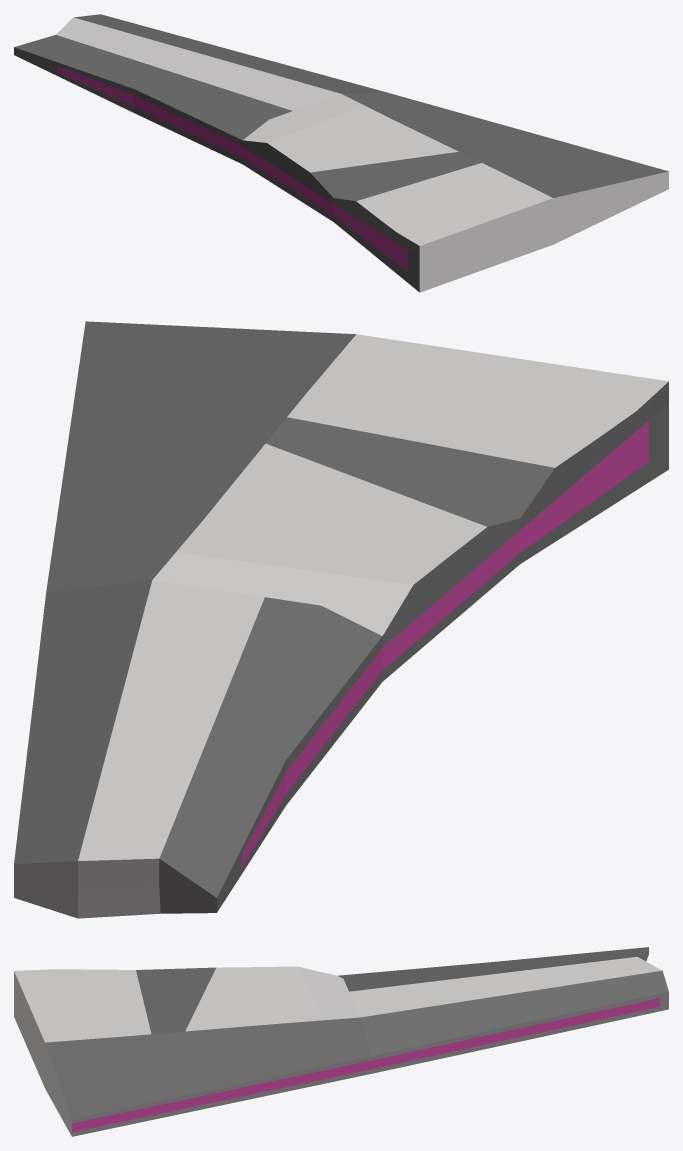
File: sswingleft.fbx
The picture shows the model from 3 angles, top to bottom: view 1: azimuth 30°, elevation 25°; view 2: azimuth 150°, elevation 25°; view 3: azimuth 270°, elevation 25°; orthographic projection. The views are drawn at different scales.
Parts seen in each view (by area): view 1: wing left; view 2: wing left; view 3: wing left.
Boxes of the visible parts, x1,y1,x2,y2 form: wing left: (14, 14, 668, 292); wing left: (14, 321, 668, 918); wing left: (14, 947, 668, 1136).
Bounding box in the file's own units: 244 × 30 × 388.
